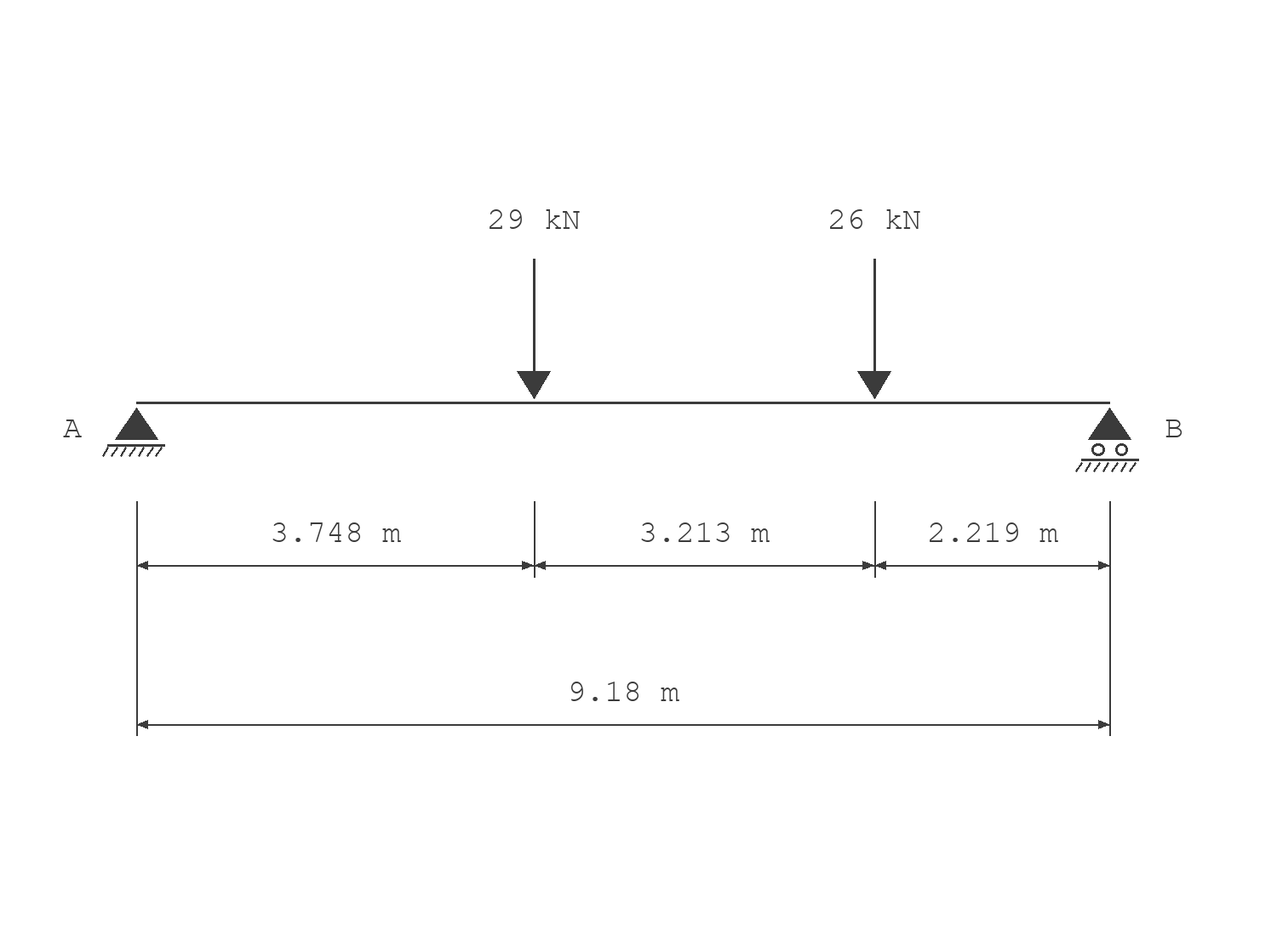pin_support: (102, 408, 165, 457)
point_load: (517, 259, 551, 399), (857, 259, 891, 399)
roller_support: (1075, 408, 1139, 472)
